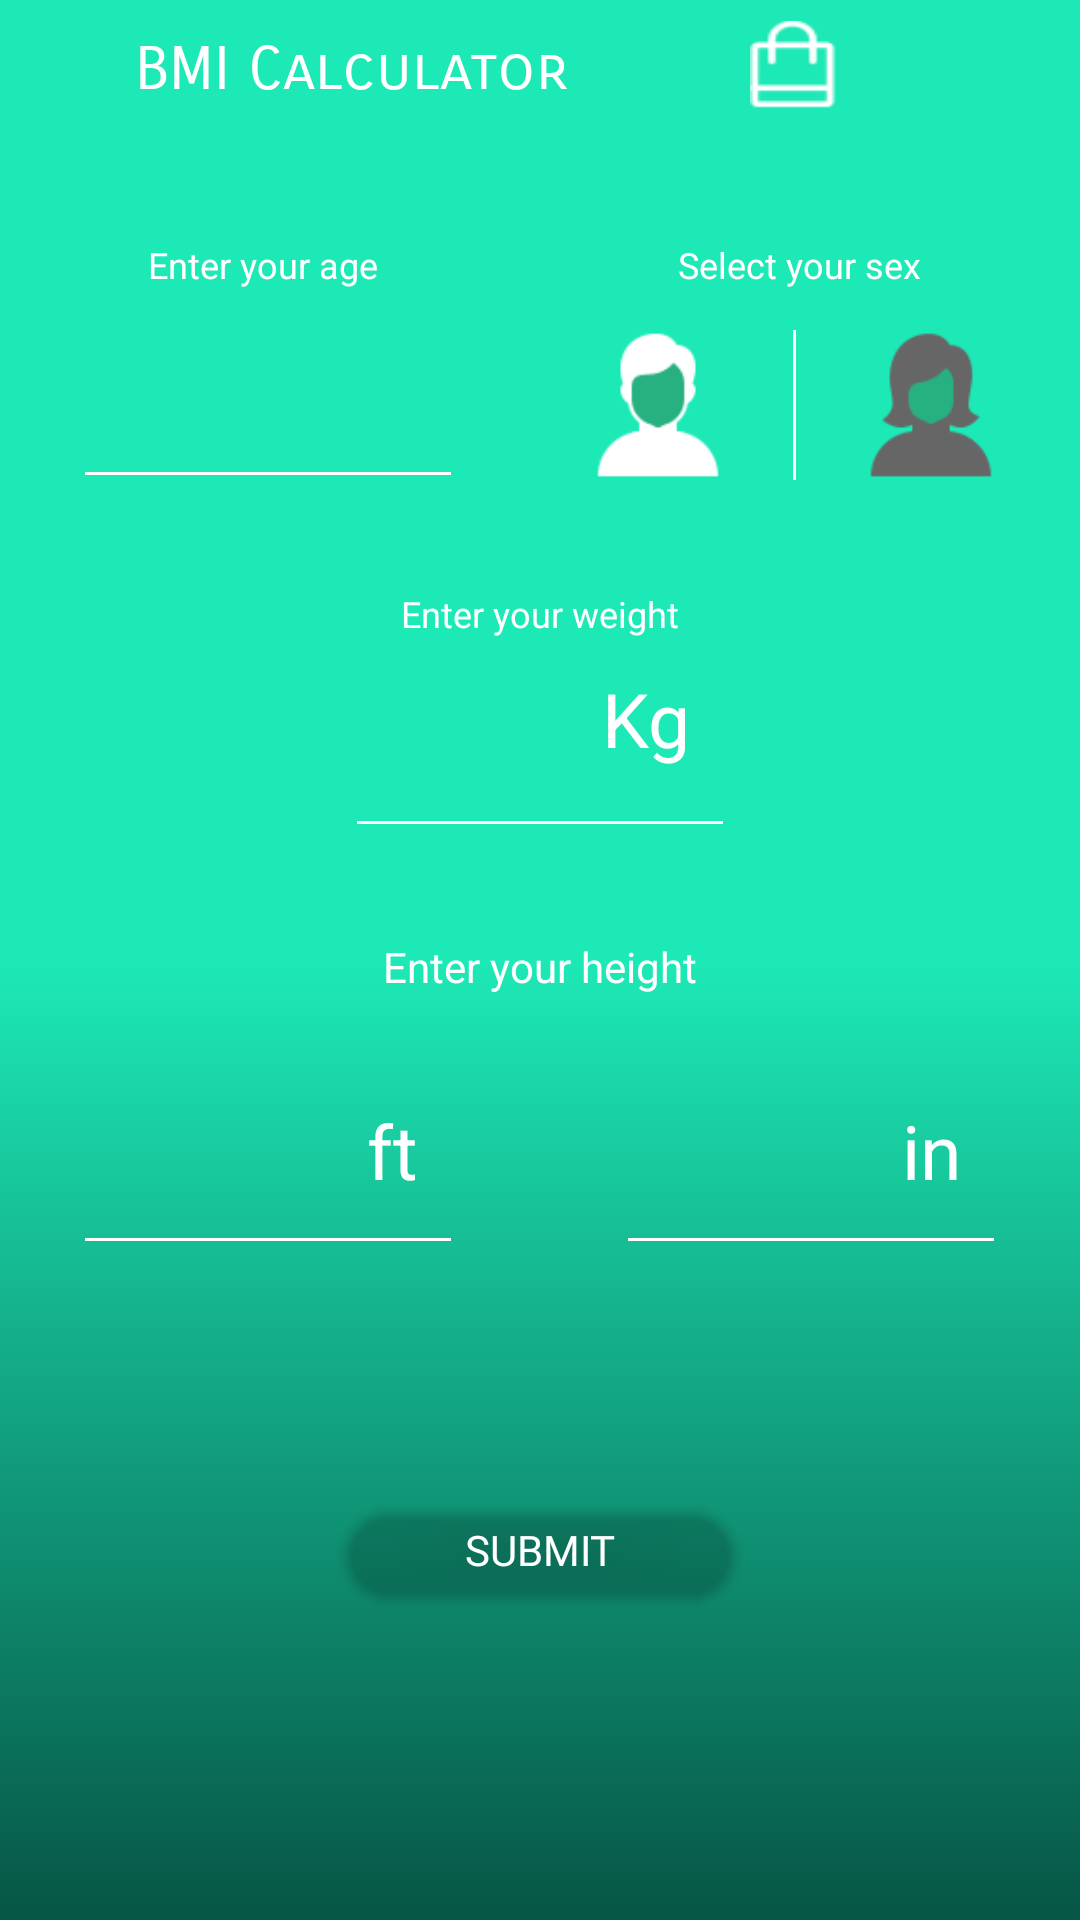

Screen size 1080x1920. Icon name, then its box in pixels as [x1=x1, y1=y1, x2=x2, y2=y2]:
female: [x1=870, y1=333, x2=992, y2=477]
malewhite: [x1=597, y1=333, x2=719, y2=477]
storeicon: [x1=750, y1=21, x2=836, y2=108]
